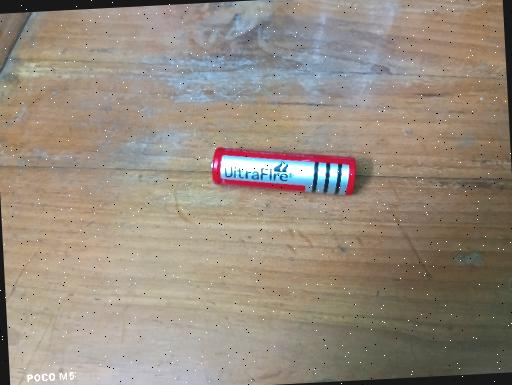Battery: (209, 139, 357, 203)
